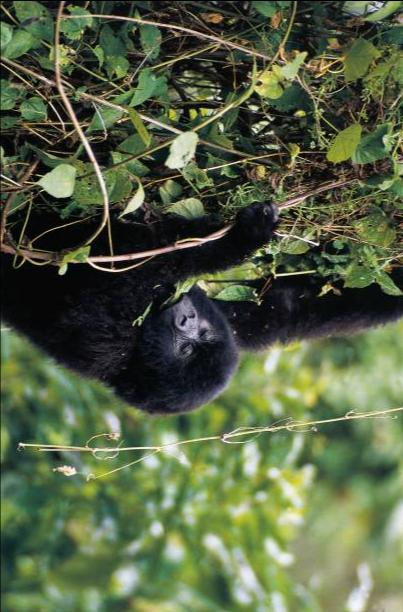goriile_montagne: (0, 210, 380, 420)
